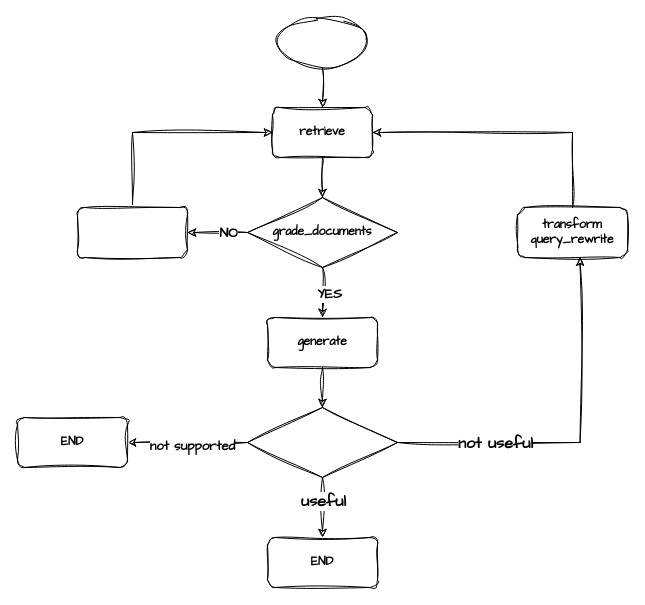
The diagram is 645 pixels wide and 605 high, and some of its shapes have lost their labels. The centre of each missing label's shape, as x and y in pixels:
grade_answer: pixel 322 442
query: pixel 322 42
transform query2doc: pixel 132 232
